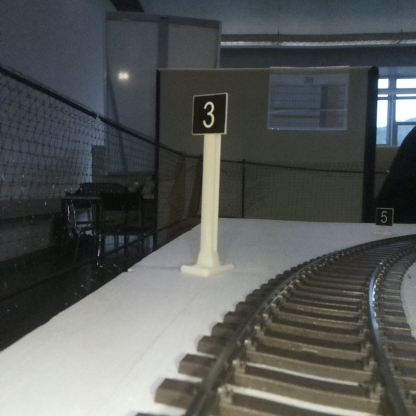black-info-3: (192, 94, 226, 271)
black-stop-5: (376, 208, 392, 232)
